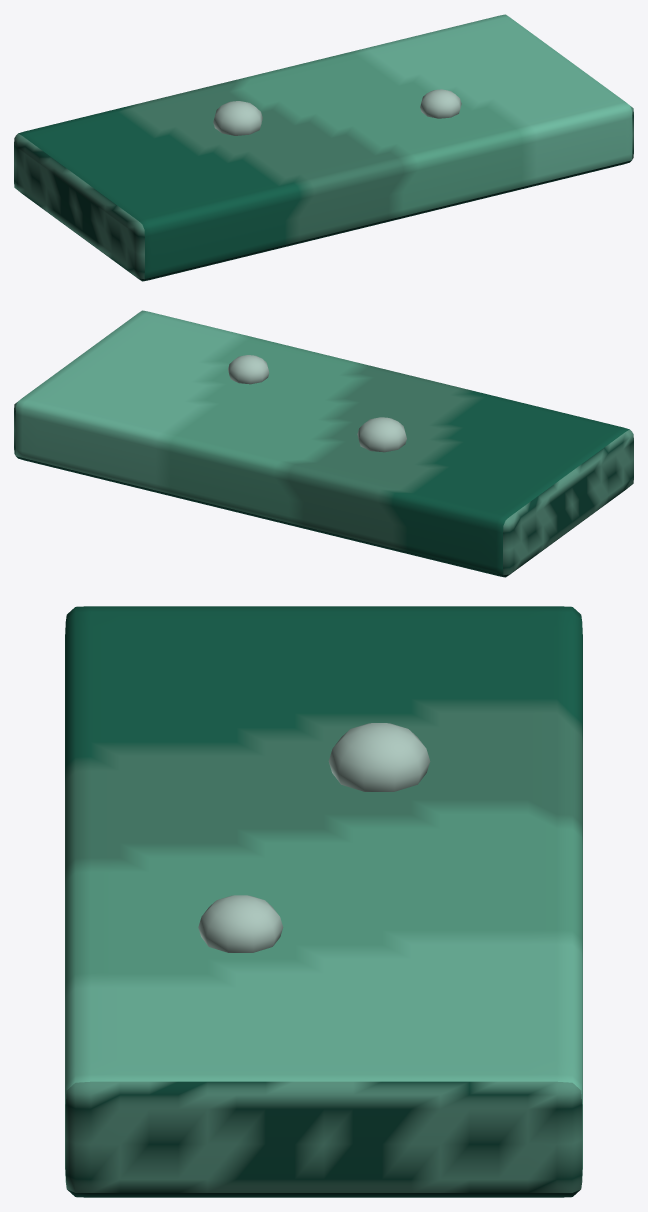
The model's file is Plank_Leviathan.glb.
The picture shows the model from 3 angles, top to bottom: view 1: azimuth 30°, elevation 25°; view 2: azimuth 150°, elevation 25°; view 3: azimuth 270°, elevation 25°; orthographic projection. The views are drawn at different scales.
Parts seen in each view (by area): view 1: Plank_leviathan_kelp; view 2: Plank_leviathan_kelp; view 3: Plank_leviathan_kelp.
Part boxes in pixels (x1=…): Plank_leviathan_kelp: x1=14, y1=14, x2=633, y2=281; Plank_leviathan_kelp: x1=14, y1=310, x2=633, y2=577; Plank_leviathan_kelp: x1=65, y1=606, x2=582, y2=1197.
Bounding box in the file's own units: 1.24 × 0.1935 × 0.56.
